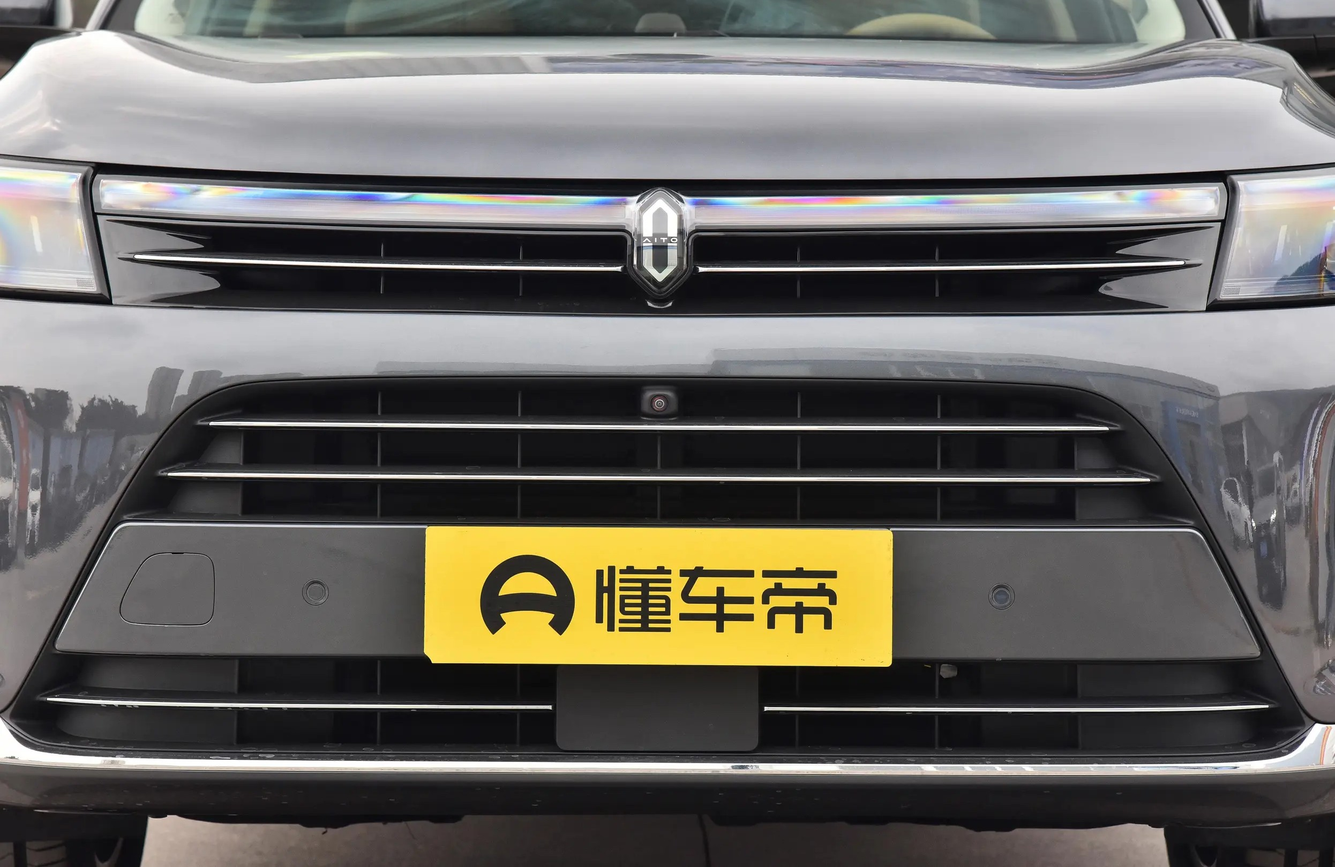AITO: (636, 191, 684, 290)
